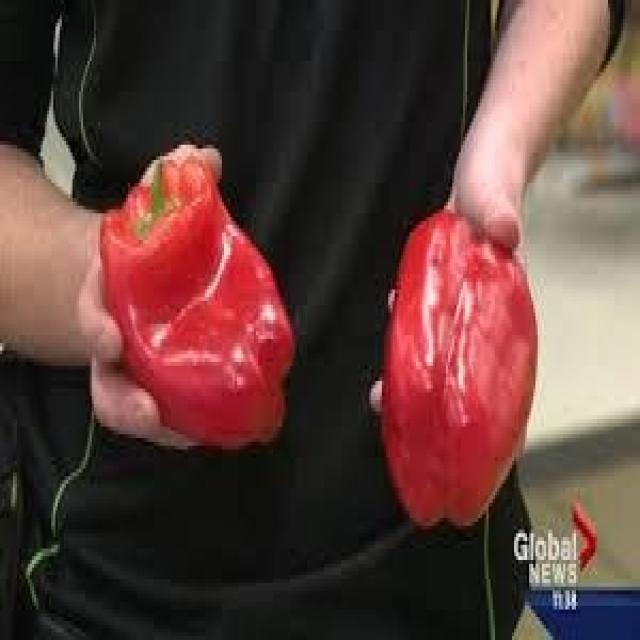bell_pepper: (92, 136, 299, 456)
